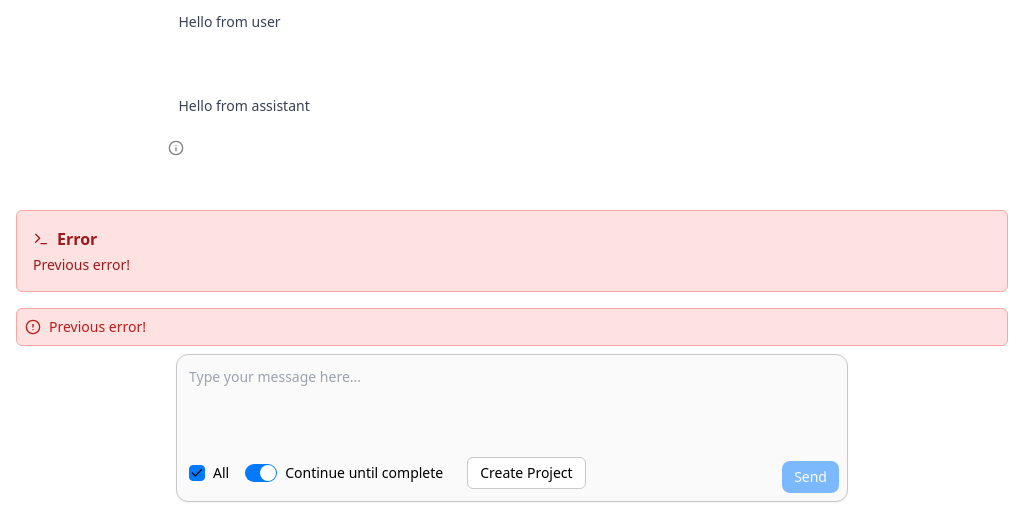
Test: AiChatbox › should clear AI error when sending a new message
Expected: the text "Previous error!" is shown, [16,308,1008,346]
// Simulate typing
Type "New message" into the text box with placeholder "Type your message here..." at (489, 412), box [189,367,789,457]
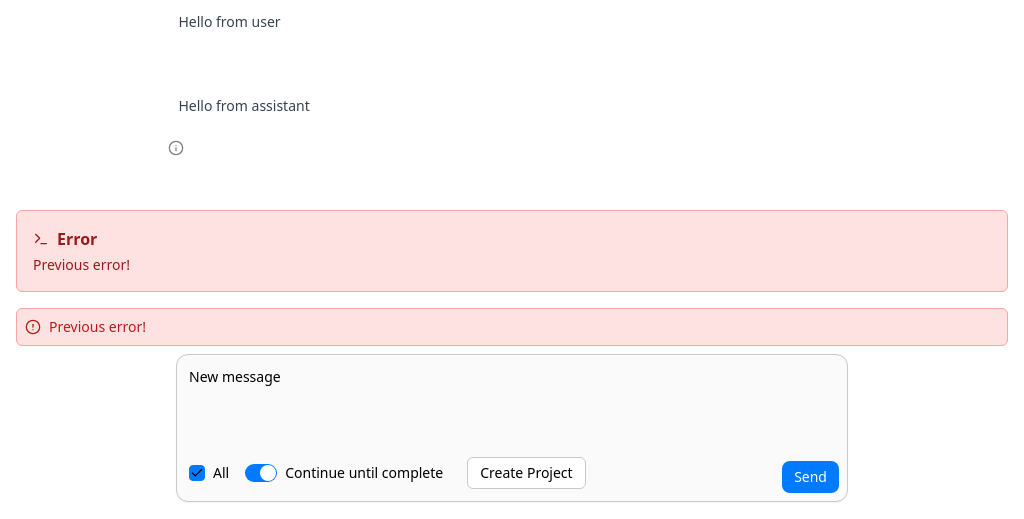
Now the button "Send" is enabled
// Click the send button
Click the button "Send" at (811, 477), box [782,461,839,493]
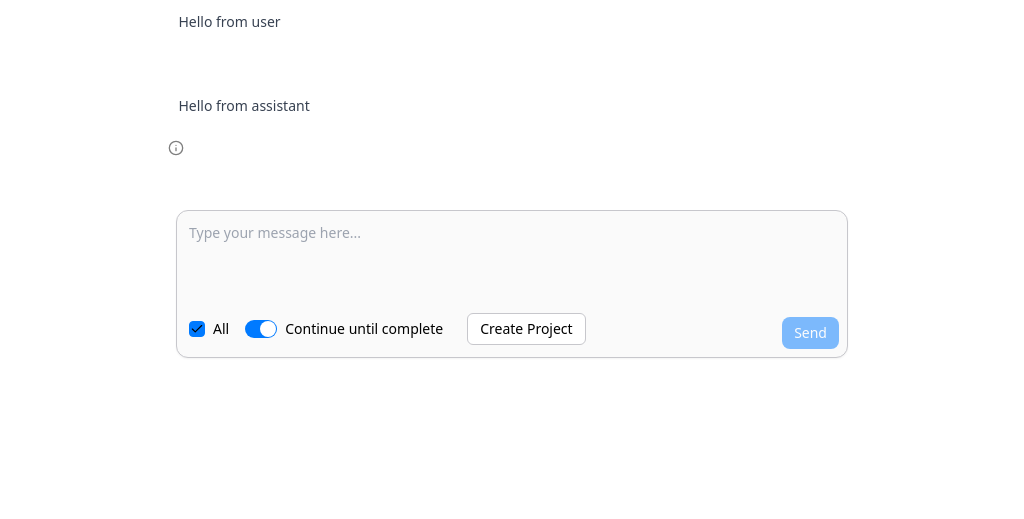
Now the element with test id "ai-error-alert" is gone
